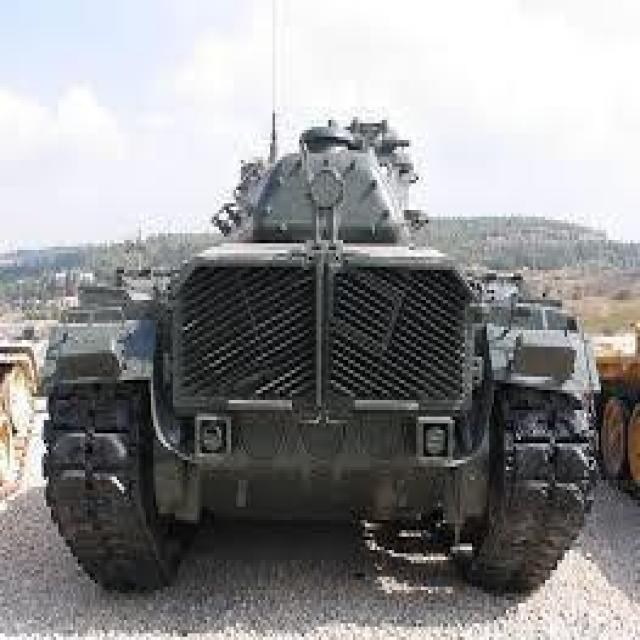Tanks: (50, 125, 568, 595)
